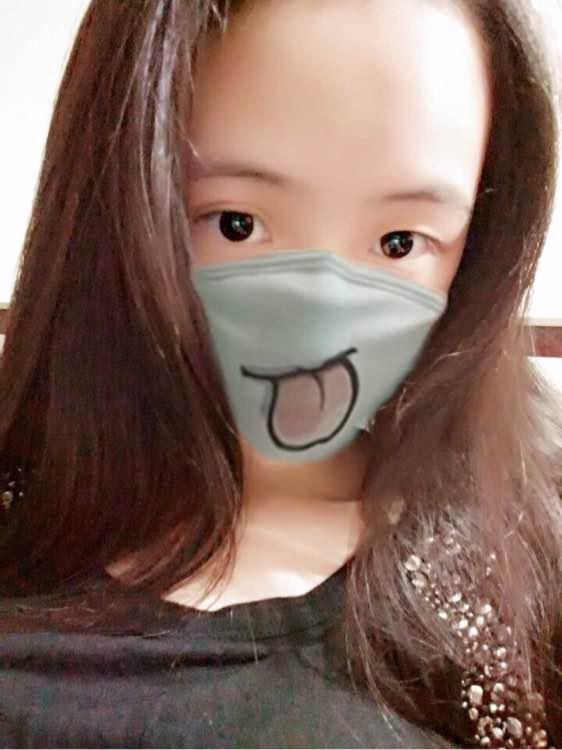OK: (163, 150, 471, 458)
